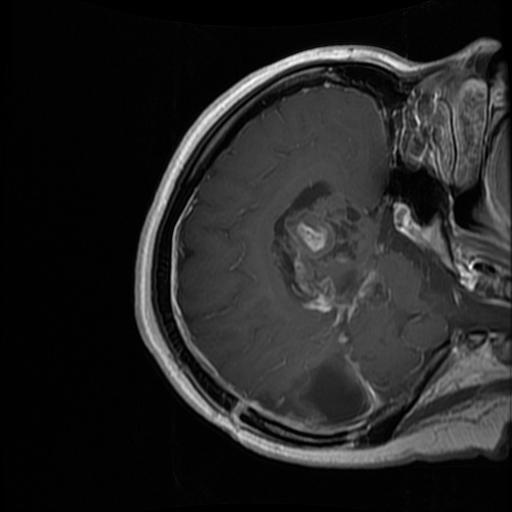glioma: (252, 355, 383, 429)
